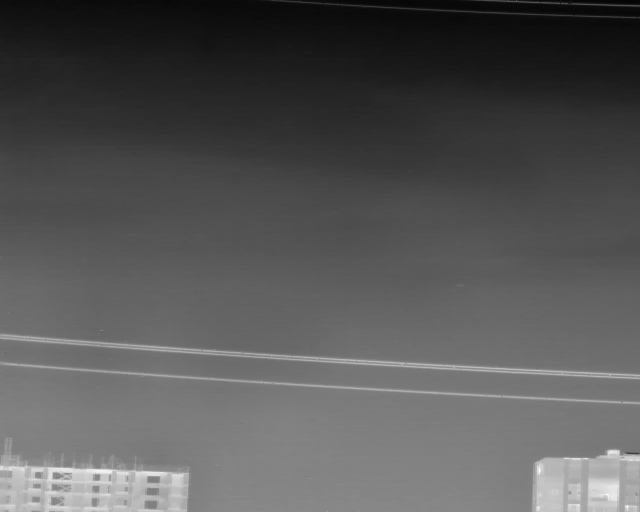Target: (457, 285, 466, 288)
